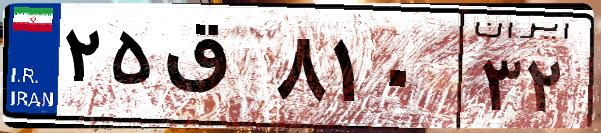0: (385, 28, 445, 110)
1: (330, 28, 385, 110)
2: (57, 26, 110, 100), (525, 38, 570, 115)
3: (475, 38, 525, 113)
5: (110, 28, 158, 98)
8: (270, 28, 330, 110)
ق: (158, 20, 270, 120)
